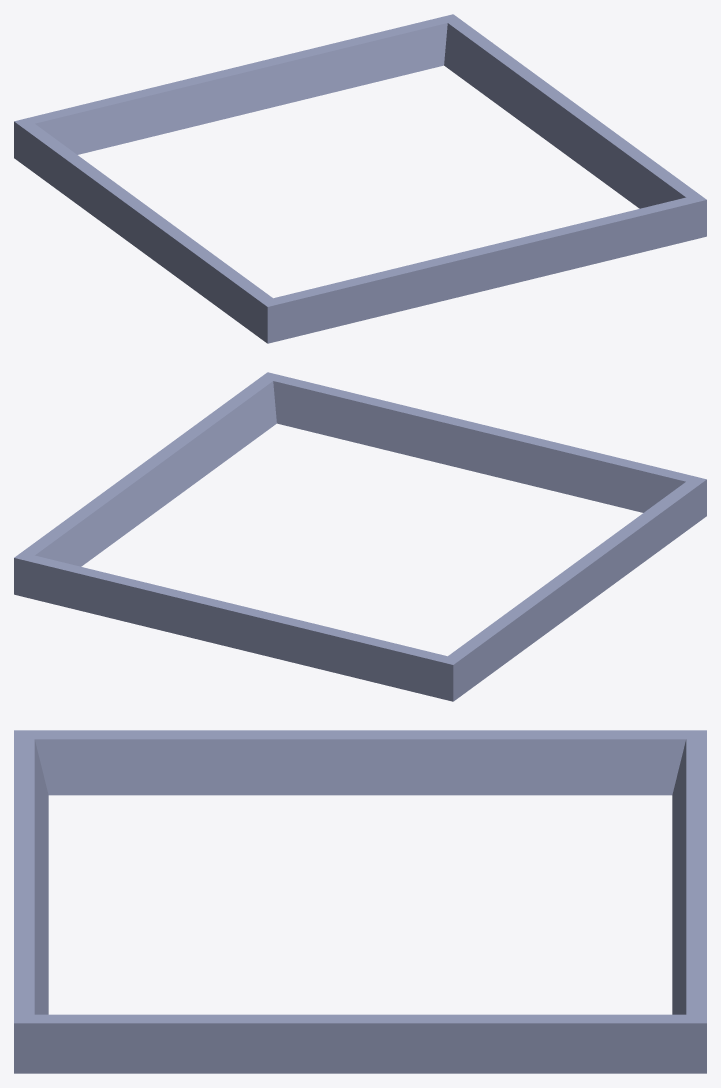
Rendered from road-square-barrier.glb.
3 renders of one model, top to bottom at view 1: azimuth 30°, elevation 25°; view 2: azimuth 150°, elevation 25°; view 3: azimuth 270°, elevation 25°, orthographic. The views are drawn at different scales.
Visible parts, largest first — view 1: road-square-barrier; view 2: road-square-barrier; view 3: road-square-barrier.
Boxes of the visible parts, x1,y1,x2,y2 form: road-square-barrier: [14, 14, 706, 343]; road-square-barrier: [14, 372, 706, 701]; road-square-barrier: [14, 730, 706, 1073].
Size of the model in its own units: 1 by 0.08 by 1.
Materials: 1 (1 with a texture image).
